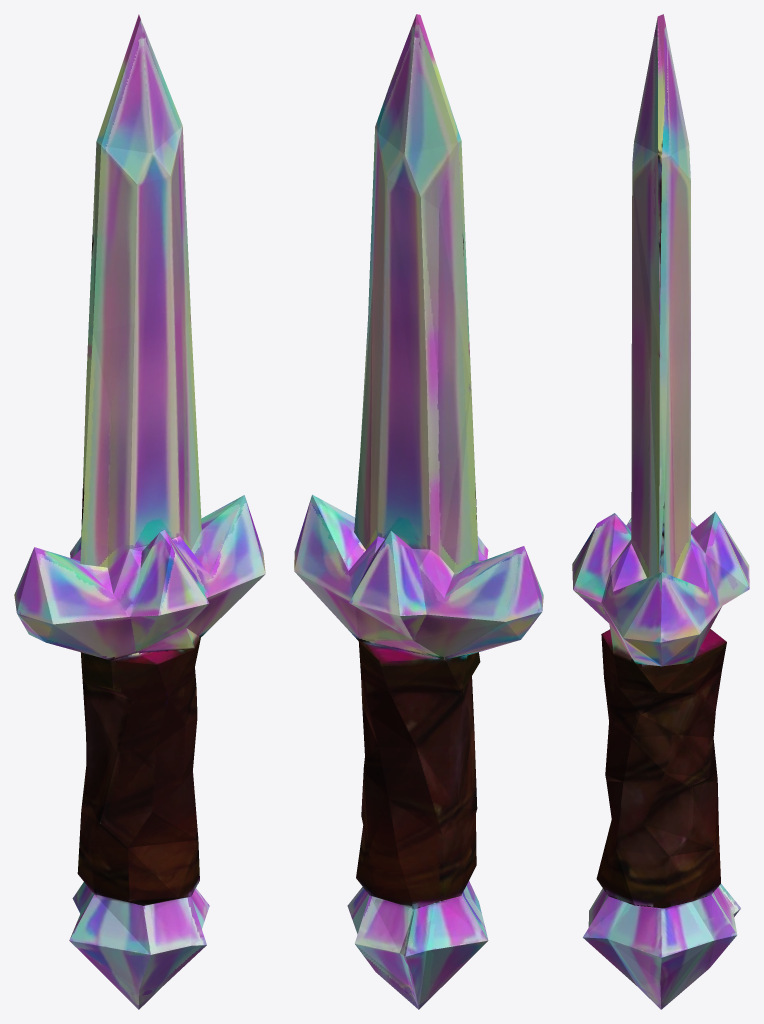
Rendered from crystal_dagger.glb.
3 renders of one model, left to right at view 1: azimuth 30°, elevation 25°; view 2: azimuth 150°, elevation 25°; view 3: azimuth 270°, elevation 25°, orthographic.
Visible parts, largest first — view 1: TexturedMesh_.obj; view 2: TexturedMesh_.obj; view 3: TexturedMesh_.obj.
Boxes of the visible parts, left/top/right/bottom form: TexturedMesh_.obj: left=14, top=14, right=265, bottom=1009; TexturedMesh_.obj: left=294, top=14, right=543, bottom=1009; TexturedMesh_.obj: left=572, top=14, right=749, bottom=1009.
Size of the model in its own units: 0.5158 by 1.99 by 0.3206.
1 material, 1 textured.
